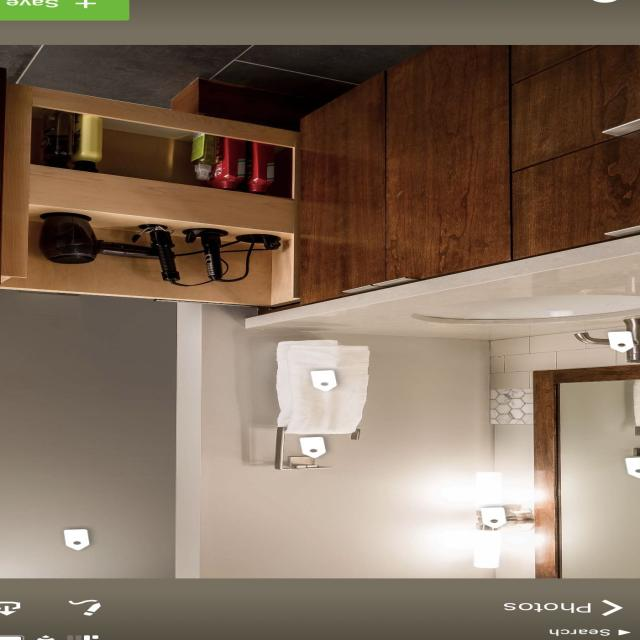dryer: (29, 194, 170, 278)
